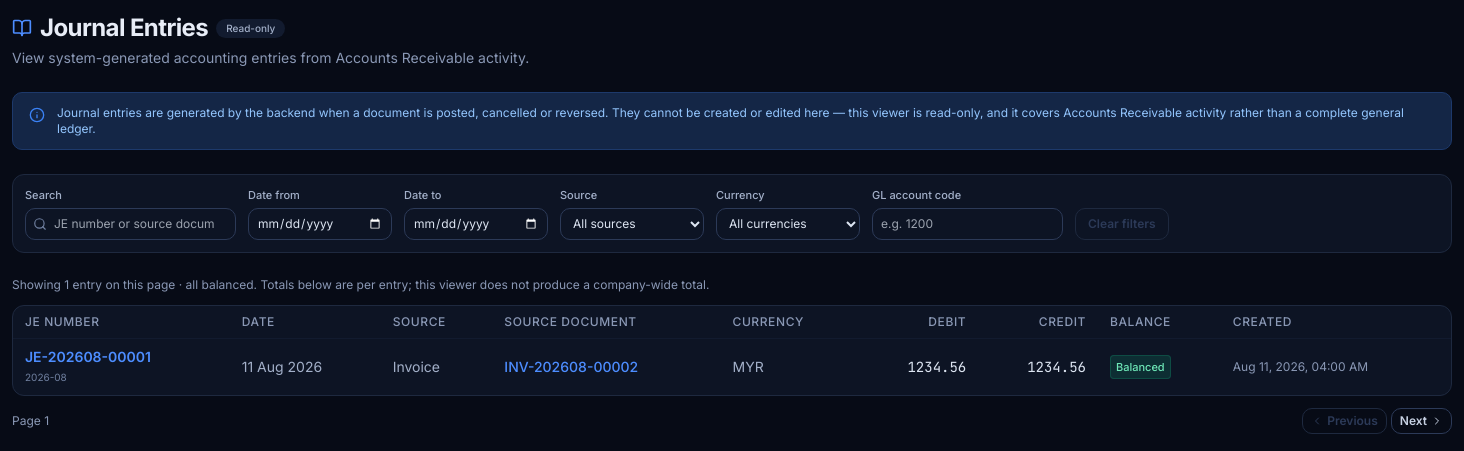
Test: Journal filters and pagination › advances with the backend cursor and offers Previous without a fabricated page count
Check: the link "JE-202608-00001" is shown, box [25,348,151,364]
Check: the text "Page 1" is shown, box [12,412,49,428]
Click the button "Next": (1421, 420) [1391,408,1452,434]
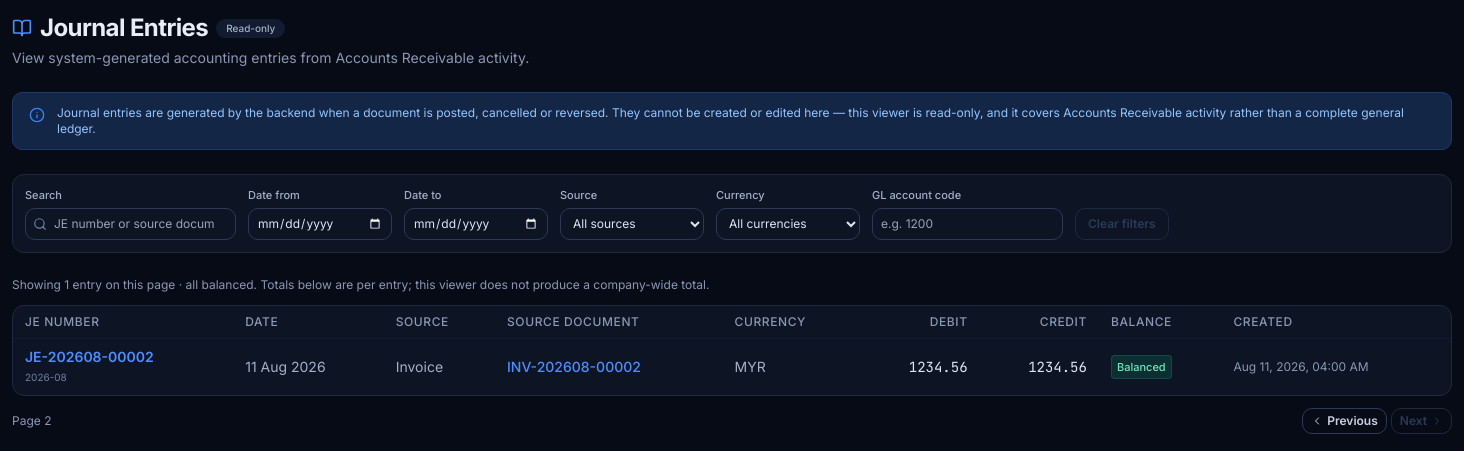
Check: the link "JE-202608-00002" is shown, box [25,348,154,364]
Check: the text "Page 2" is shown, box [12,412,52,428]
Click the button "Previous": (1344, 420) [1302,408,1387,434]
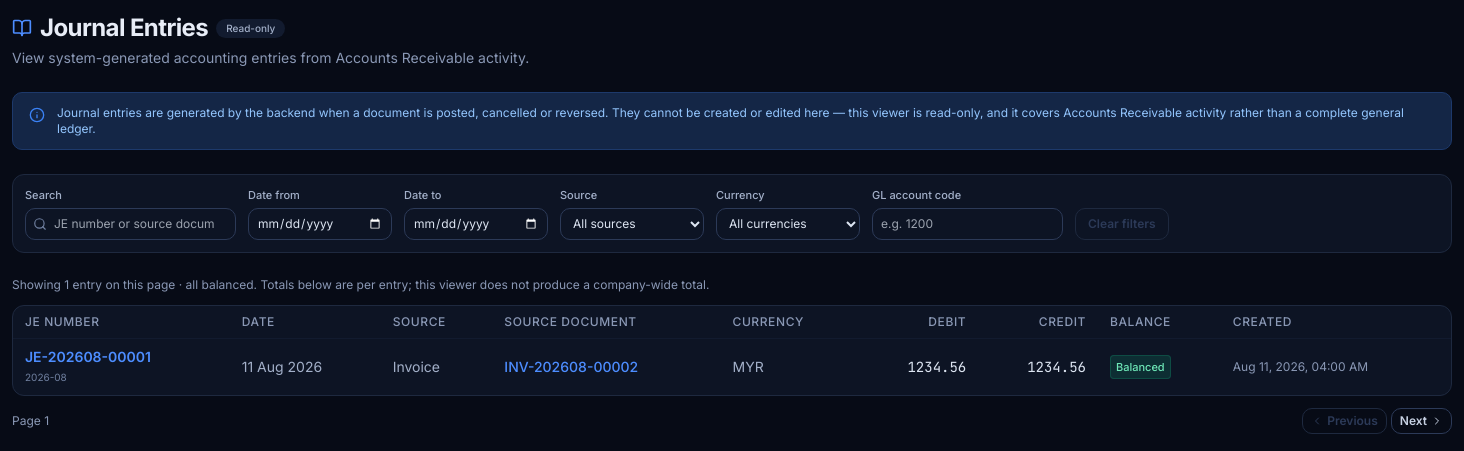
Check: the link "JE-202608-00001" is shown, box [25,348,151,364]
Check: the text "Page 1" is shown, box [12,412,49,428]
